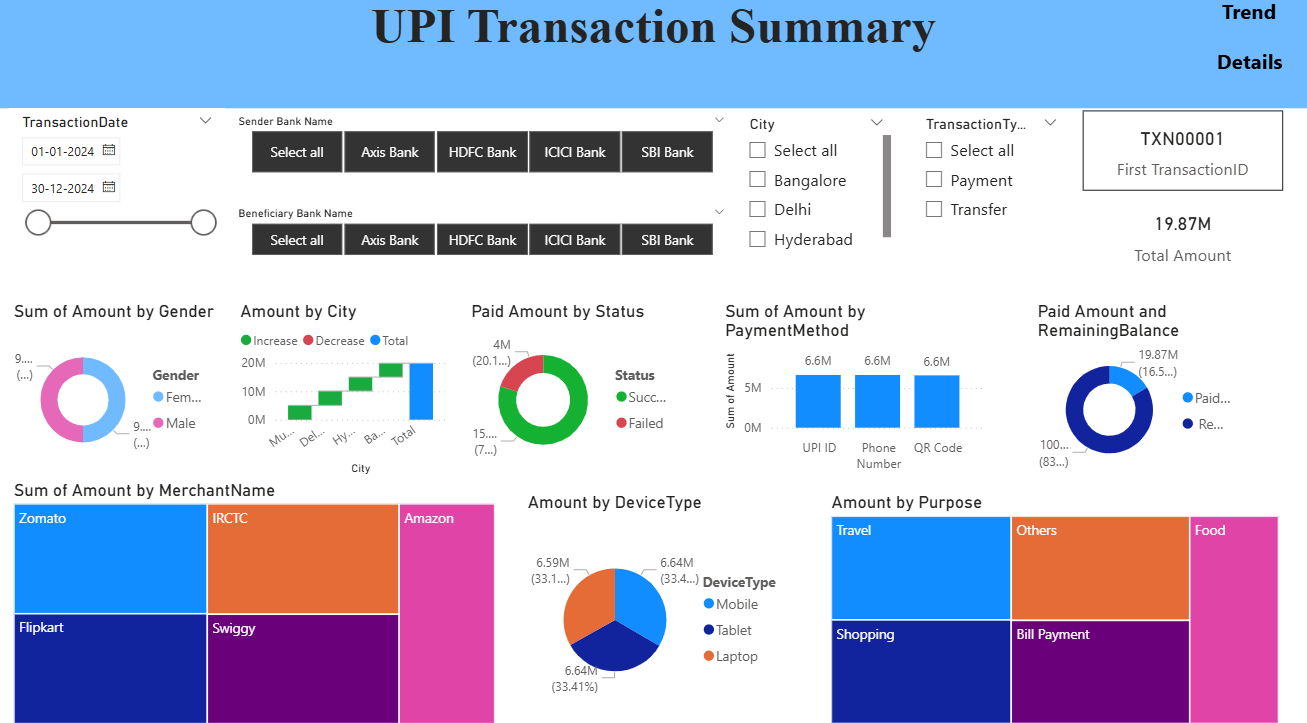

What the dashboard file says about the page in this screenshot:
{"tool":"powerbi","page":{"name":"Summary","canvas":[1280,720],"ordinal":2},"visuals":[{"type":"textbox","box":[0,0,1280.7,112.5],"z":0},{"type":"slicer","fields":{"Values":["Upi Transaction.TransactionDate"]},"box":[9.6,112.5,211.3,150.9],"z":1000},{"type":"slicer","fields":{"Values":["Upi Transaction.BankNameSent"]},"box":[220.9,113.9,500.9,68.6],"z":2000},{"type":"slicer","fields":{"Values":["Upi Transaction.BankNameSent"]},"box":[220.9,204.5,500.9,59],"z":3000},{"type":"slicer","fields":{"Values":["Upi Transaction.City"]},"box":[721.8,115.3,156.4,149.6],"z":4000},{"type":"donutChart","fields":{"Category":["Upi Transaction.Gender"],"Y":["Sum(Upi Transaction.Amount)"]},"box":[9.6,300.5,211.3,175.6],"z":5000},{"type":"slicer","fields":{"Values":["Upi Transaction.TransactionType"]},"box":[893.3,115.3,153.7,150.9],"z":6000},{"type":"waterfallChart","fields":{"Y":["Sum(Upi Transaction.Amount)"],"Category":["Upi Transaction.City"]},"box":[230.5,300.5,211.3,175.6],"z":7000},{"type":"donutChart","fields":{"Y":["Sum(Upi Transaction.Amount)"],"Category":["Upi Transaction.Status"]},"box":[456.9,300.5,211.3,175.6],"z":8000},{"type":"clusteredColumnChart","fields":{"Y":["Sum(Upi Transaction.Amount)"],"Category":["Upi Transaction.PaymentMethod"]},"box":[705.3,300.5,264.8,175.6],"z":9000},{"type":"donutChart","fields":{"Y":["Sum(Upi Transaction.Amount)","Sum(Upi Transaction.RemainingBalance)"]},"box":[1011.3,300.5,211.3,175.6],"z":10000},{"type":"treemap","fields":{"Group":["Upi Transaction.MerchantName"],"Values":["Sum(Upi Transaction.Amount)"]},"box":[9.6,476.2,480.3,244.3],"z":11000},{"type":"card","fields":{"Values":["Min(Upi Transaction.TransactionID)"]},"box":[1060.7,115.3,196.2,78.2],"z":12000},{"type":"card","fields":{"Values":["Sum(Upi Transaction.Amount)"]},"box":[1060.7,204.5,196.2,65.9],"z":13000},{"type":"pieChart","fields":{"Y":["Sum(Upi Transaction.Amount)"],"Category":["Upi Transaction.DeviceType"]},"box":[511.8,488.5,264.8,231.9],"z":14000},{"type":"treemap","fields":{"Values":["Sum(Upi Transaction.Amount)"],"Group":["Upi Transaction.Purpose"]},"box":[809.6,488.5,447.3,231.9],"z":15000},{"type":"actionButton","title":"Trending","box":[1183.7,0,78.3,34.2],"z":16000},{"type":"shape","box":[1184.9,44,77,44],"z":16001}]}

Visuals, with their boxes in screenshot pixels (x1, y1, x2, y2), scaled from the page's 1280x720 canvas onto the 1307x723 screenshot:
textbox: <box>0,0,1306,113</box>
slicer - Upi Transaction.TransactionDate: <box>10,113,226,264</box>
slicer - Upi Transaction.BankNameSent: <box>226,114,737,183</box>
slicer - Upi Transaction.BankNameSent: <box>226,205,737,265</box>
slicer - Upi Transaction.City: <box>737,116,897,266</box>
donutChart - Upi Transaction.Gender x Sum(Upi Transaction.Amount): <box>10,302,226,478</box>
slicer - Upi Transaction.TransactionType: <box>912,116,1069,267</box>
waterfallChart - Sum(Upi Transaction.Amount) x Upi Transaction.City: <box>235,302,451,478</box>
donutChart - Sum(Upi Transaction.Amount) x Upi Transaction.Status: <box>467,302,682,478</box>
clusteredColumnChart - Sum(Upi Transaction.Amount) x Upi Transaction.PaymentMethod: <box>720,302,991,478</box>
donutChart - Sum(Upi Transaction.Amount) x Sum(Upi Transaction.RemainingBalance): <box>1033,302,1248,478</box>
treemap - Upi Transaction.MerchantName x Sum(Upi Transaction.Amount): <box>10,478,500,722</box>
card - Min(Upi Transaction.TransactionID): <box>1083,116,1283,194</box>
card - Sum(Upi Transaction.Amount): <box>1083,205,1283,272</box>
pieChart - Sum(Upi Transaction.Amount) x Upi Transaction.DeviceType: <box>523,491,793,722</box>
treemap - Sum(Upi Transaction.Amount) x Upi Transaction.Purpose: <box>827,491,1283,722</box>
"Trending" actionButton: <box>1209,0,1289,34</box>
shape: <box>1210,44,1289,88</box>
